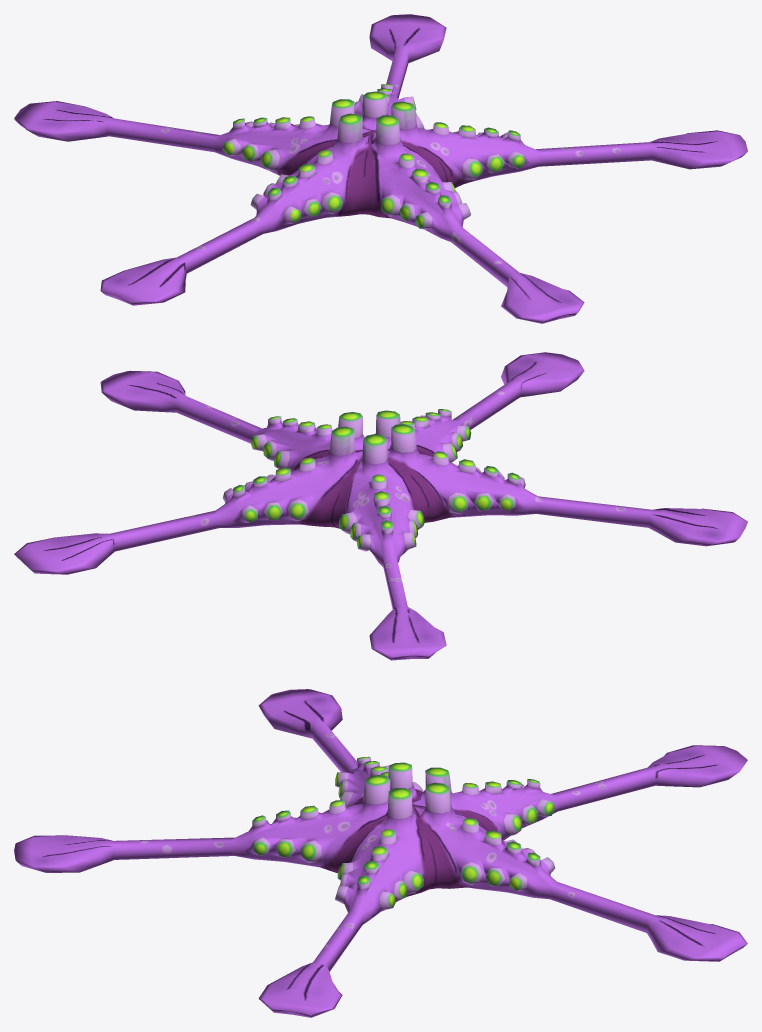
The model's file is starfish.fbx.
3 renders of one model, top to bottom at view 1: azimuth 30°, elevation 25°; view 2: azimuth 150°, elevation 25°; view 3: azimuth 270°, elevation 25°, orthographic. The views are drawn at different scales.
Parts seen in each view (by area): view 1: Plane; view 2: Plane; view 3: Plane.
Boxes of the visible parts, left/top/right/bottom form: Plane: left=14, top=14, right=747, bottom=323; Plane: left=14, top=352, right=747, bottom=660; Plane: left=14, top=689, right=747, bottom=1017.
Bounding box in the file's own units: 65.03 × 7.81 × 62.
